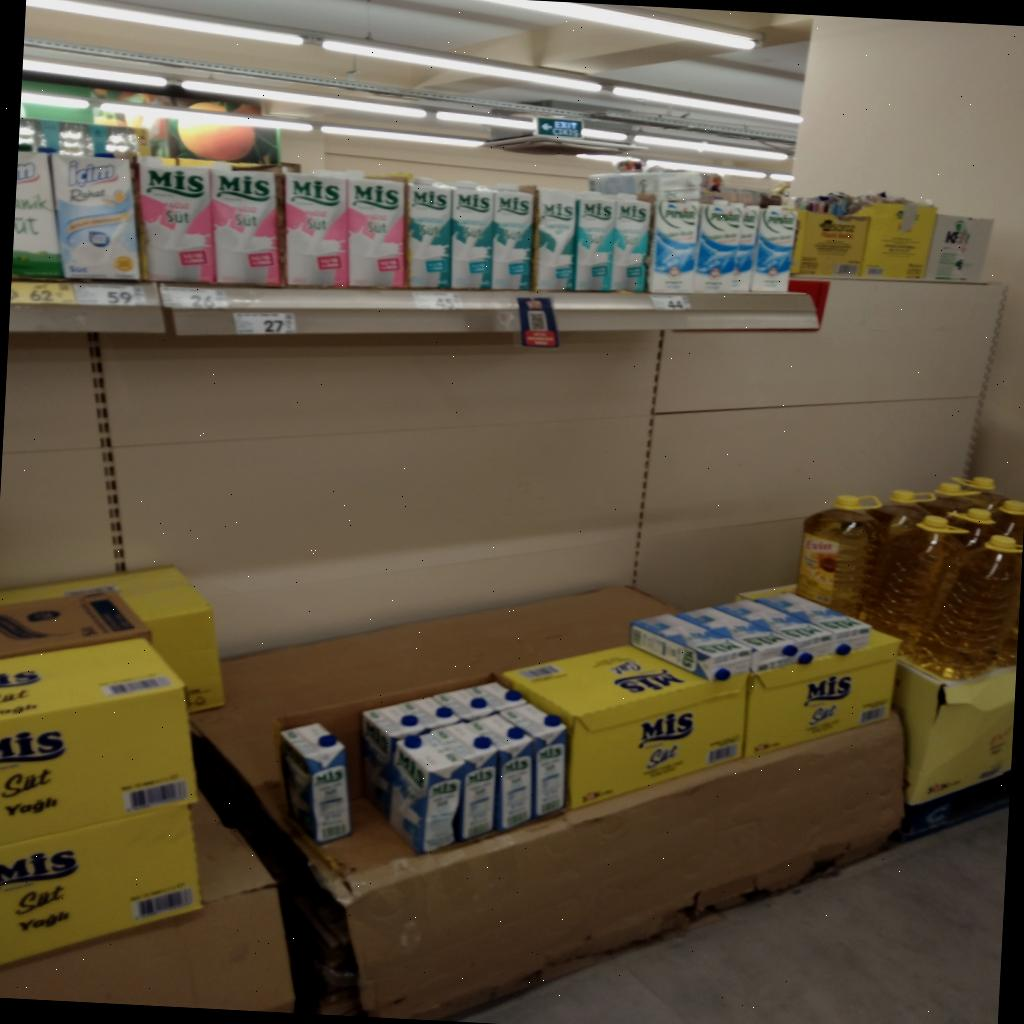price_tag: (160, 285, 227, 310), (75, 284, 148, 306), (11, 280, 75, 305), (234, 312, 296, 335), (413, 291, 463, 310), (651, 294, 689, 310)
product: (50, 154, 141, 280), (137, 157, 216, 282), (390, 736, 468, 852), (210, 163, 282, 285), (280, 723, 352, 845), (630, 614, 750, 680), (430, 723, 497, 841), (499, 703, 567, 816), (285, 171, 348, 287), (347, 174, 405, 288), (719, 600, 834, 657), (753, 594, 871, 649), (12, 153, 63, 278), (484, 717, 533, 832), (406, 178, 454, 288), (711, 612, 797, 673), (648, 199, 698, 294), (452, 182, 496, 289), (492, 185, 535, 290), (535, 188, 577, 290), (611, 194, 653, 292), (695, 202, 740, 293), (575, 191, 616, 290), (751, 206, 797, 291), (731, 205, 759, 291)
